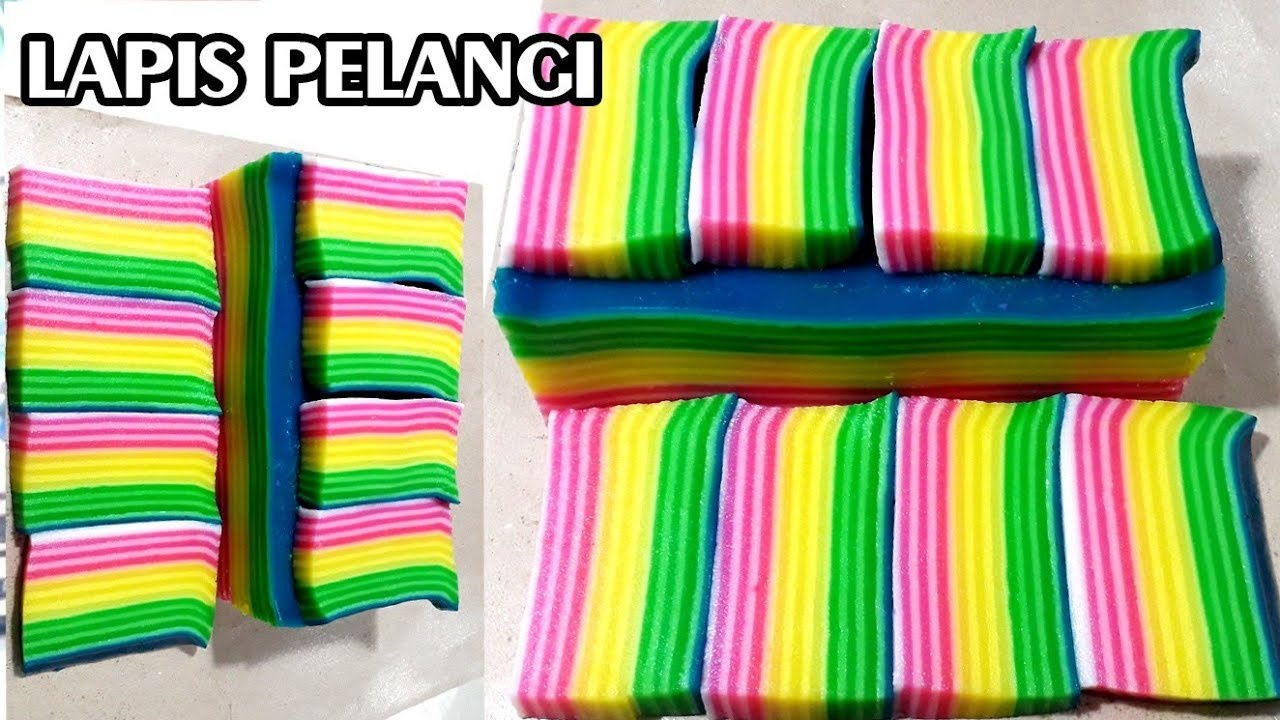kue_lapis_pelangi: (512, 398, 732, 715), (699, 388, 900, 716), (1067, 395, 1278, 698), (892, 391, 1067, 715), (495, 12, 692, 278), (688, 8, 870, 264), (1039, 21, 1211, 282), (872, 12, 1036, 278), (11, 530, 215, 677), (9, 170, 230, 305), (2, 290, 228, 416), (9, 409, 222, 526), (295, 166, 473, 280), (293, 509, 458, 627), (297, 283, 464, 398), (296, 402, 455, 504)
